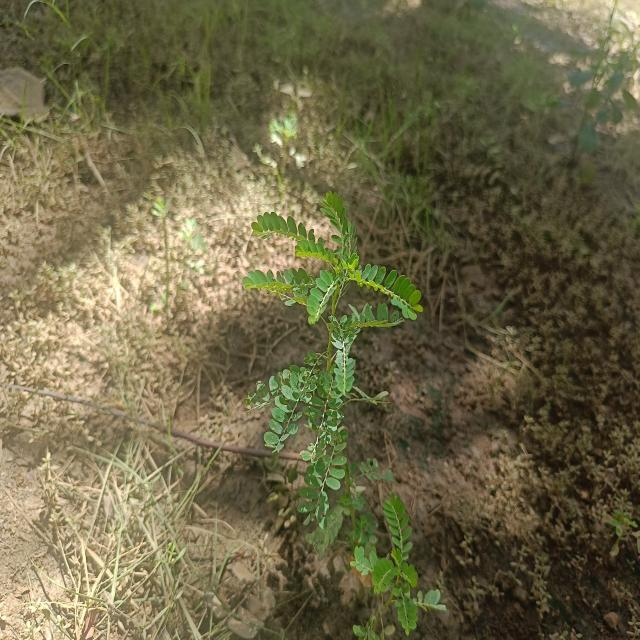weed: (227, 181, 425, 535), (358, 493, 423, 629)
